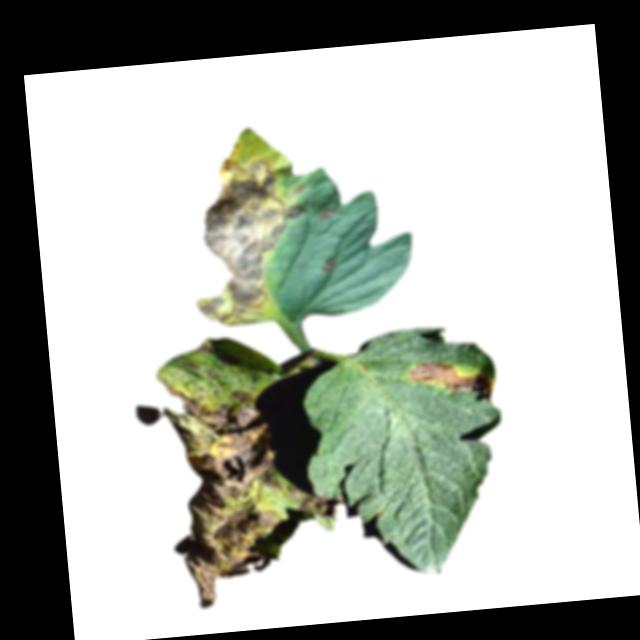Early_blight: (156, 386, 284, 613), (181, 150, 317, 330), (401, 356, 484, 409), (296, 494, 345, 518), (319, 251, 341, 276), (318, 205, 339, 221)
